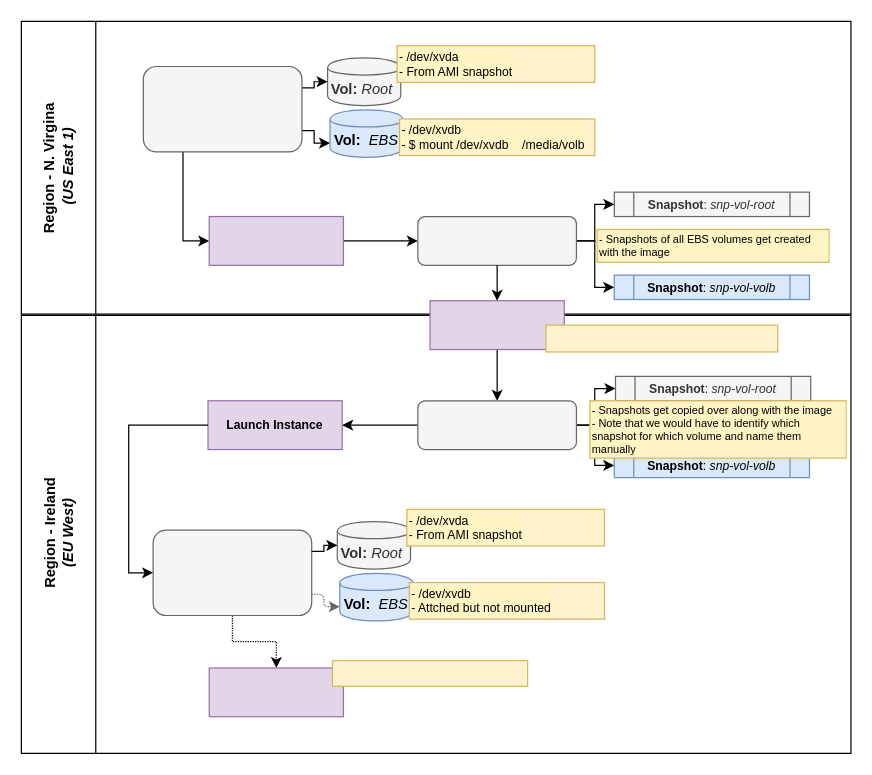
Image size: 872x775. Some labels were removed from this diagram. The centre of each missing label's shape, as x and y in pixels:
"- $ mount /dev/xvdb /media/volb" belongs at point (429, 672).
"- Copy-Image action can be used to create an AMI with encrypted-snapshots" belongs at point (661, 338).
"AMI: img-eir-srv-1" belongs at point (496, 425).
"AMI: img-n-virg-srv-1" belongs at point (496, 240).
"Copy Image" belongs at point (496, 325).
"Create Image" belongs at point (275, 240).
"Mount EBS Vols" belongs at point (275, 692).
"Type: t2.micro AMI: Amazon Linux AMI Name: n-vig-srv-1" belongs at point (222, 108).
"Type: t2.micro AMI: img-n-virg-srv-1 Name: eir-srv-1" belongs at point (232, 572).
